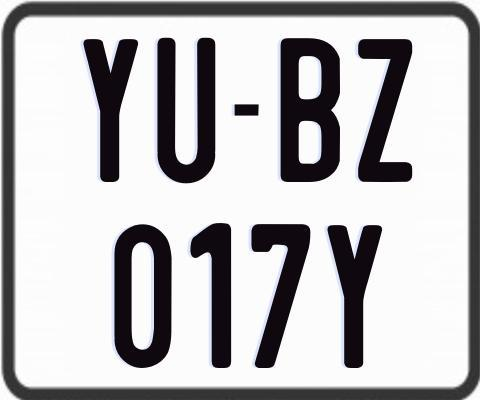0: (113, 224, 172, 373)
1: (187, 222, 232, 373)
7: (249, 223, 309, 372)
B: (280, 37, 341, 184)
U: (157, 38, 217, 184)
Y: (325, 225, 383, 372), (80, 39, 135, 182)
Z: (355, 37, 415, 186)
